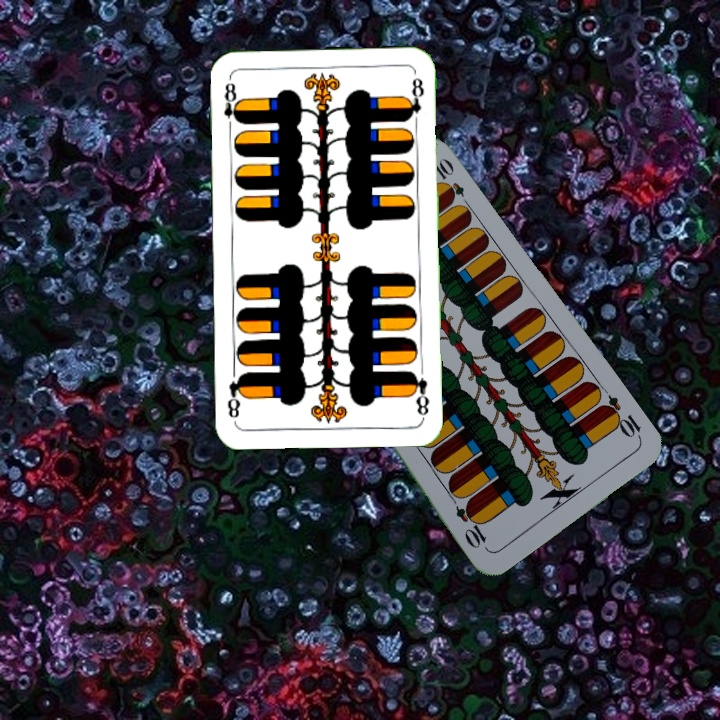E10: (596, 391, 644, 443)
E8: (220, 74, 243, 133), (407, 367, 432, 420)
